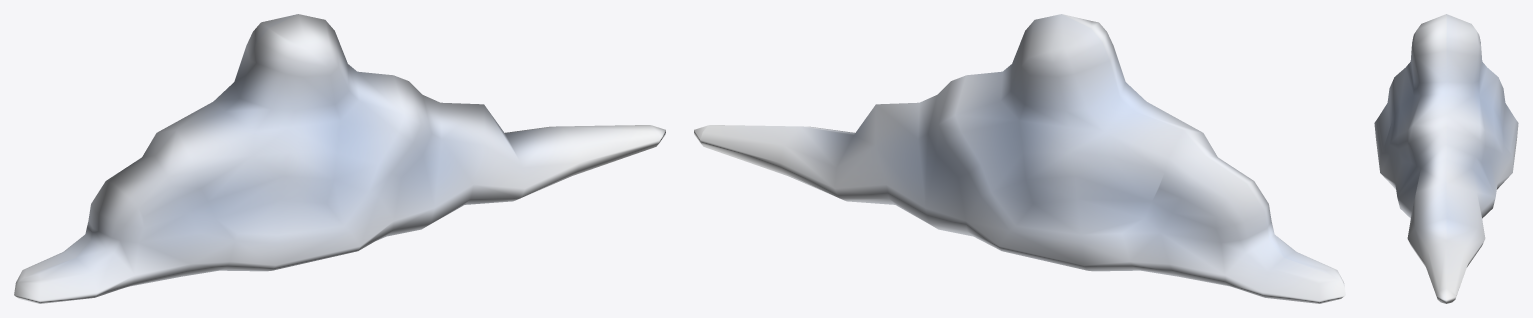
File: ENV3010001.fbx
3 views of the same model, side by side, from view 1: azimuth 30°, elevation 25°; view 2: azimuth 150°, elevation 25°; view 3: azimuth 270°, elevation 25° (orthographic). The views are drawn at different scales.
Parts seen in each view (by area): view 1: smENV3010001; view 2: smENV3010001; view 3: smENV3010001.
Boxes of the visible parts, left/top/right/bottom form: smENV3010001: left=14, top=14, right=665, bottom=303; smENV3010001: left=694, top=14, right=1345, bottom=303; smENV3010001: left=1374, top=14, right=1518, bottom=303.
Bounding box in the file's own units: 490 × 165 × 129.
Materials: 1 (1 with a texture image).
